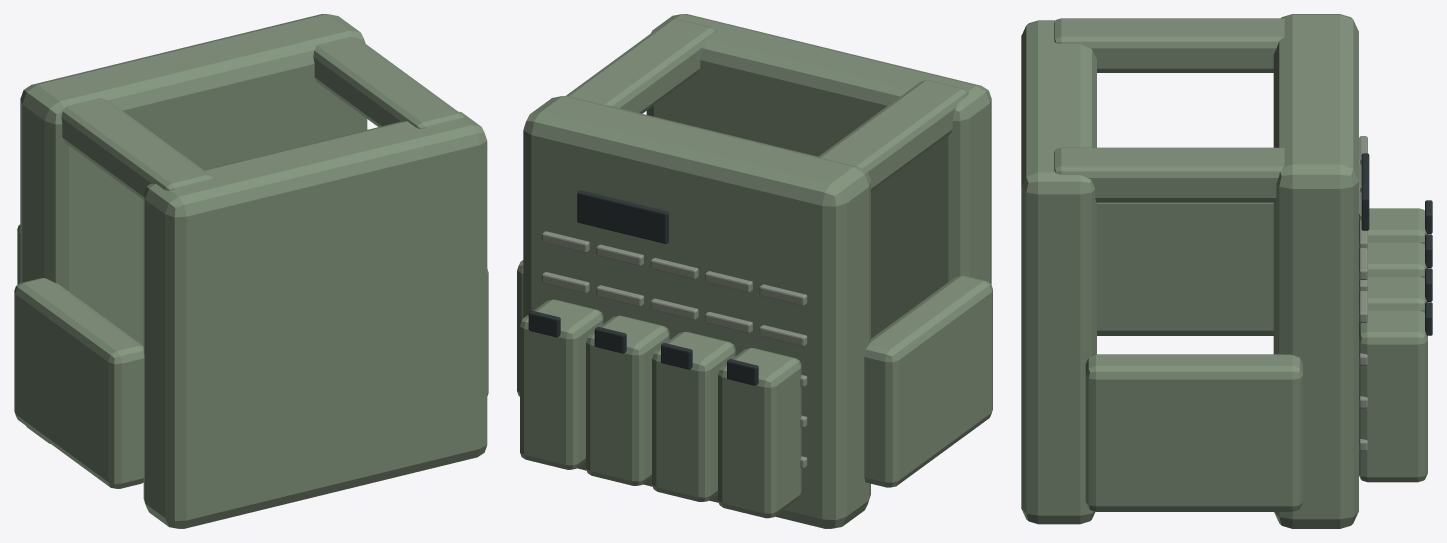
File: armored_rig_cargo.glb
3 renders of one model, left to right at view 1: azimuth 30°, elevation 25°; view 2: azimuth 150°, elevation 25°; view 3: azimuth 270°, elevation 25°, orthographic. The views are drawn at different scales.
Visible parts, largest first — view 1: armored_rig_cargo; view 2: armored_rig_cargo; view 3: armored_rig_cargo.
Boxes of the visible parts, x1=… form: armored_rig_cargo: x1=14, y1=14, x2=488, y2=528; armored_rig_cargo: x1=517, y1=14, x2=992, y2=528; armored_rig_cargo: x1=1021, y1=14, x2=1432, y2=528.
Bounding box in the file's own units: 0.49 × 0.425 × 0.435.
